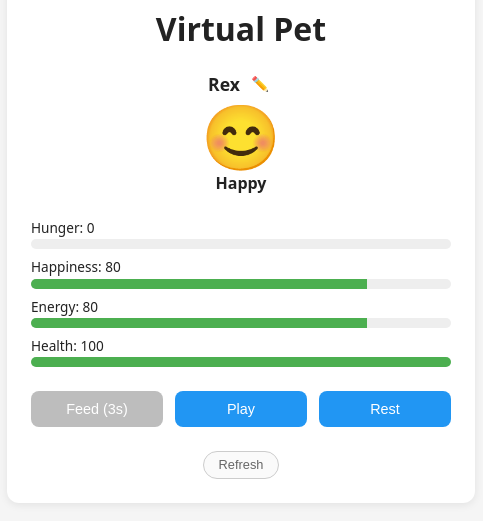
Test: App - refresh › immediately resets stats and cooldowns while preserving the name, with no confirmation dialog
Expected: the button with test id "action-panel-feed-button" is disabled, [31, 391, 163, 427]
Click the button with test id "refresh-button". click: (241,465)
box: [203, 451, 279, 479]
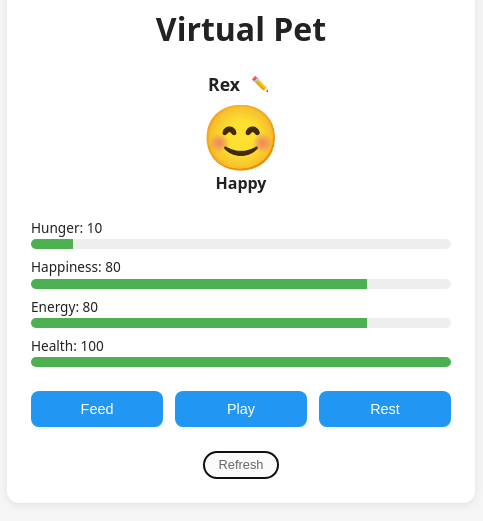
Expected: the text with test id "pet-display-name" reads "Rex", [208, 72, 240, 96]
Now the button with test id "action-panel-feed-button" is enabled, box [31, 391, 163, 427]
